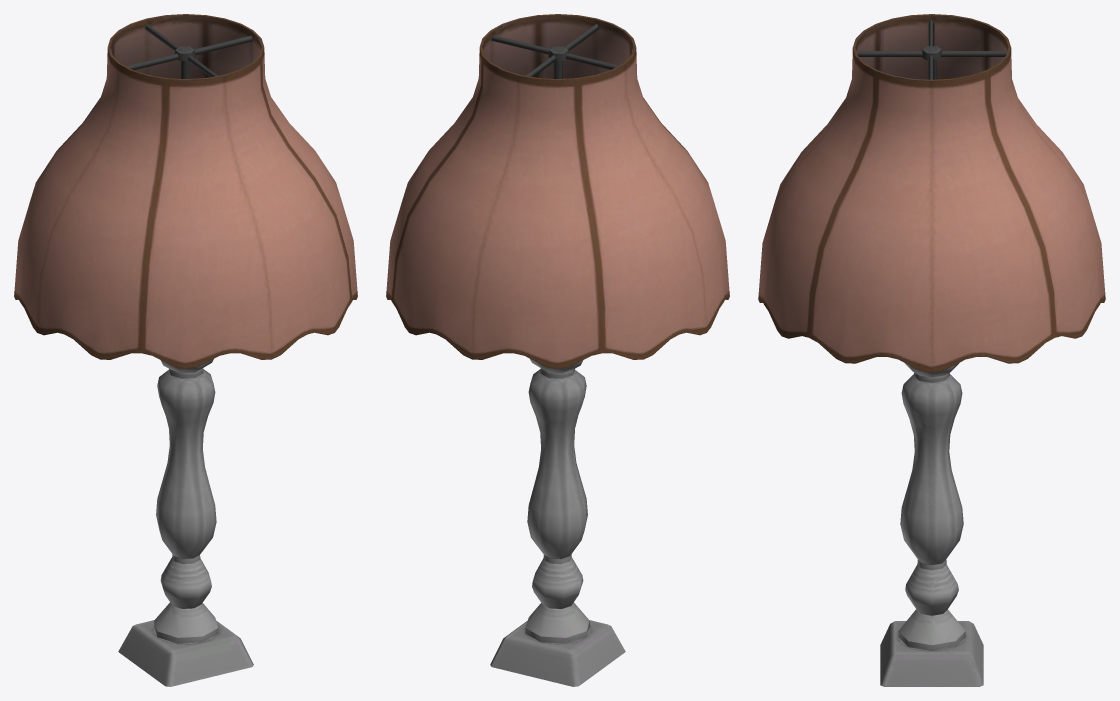
The model's file is bedlamp3.glb.
The picture shows the model from 3 angles, left to right: view 1: azimuth 30°, elevation 25°; view 2: azimuth 150°, elevation 25°; view 3: azimuth 270°, elevation 25°; orthographic projection.
Visible parts, largest first — view 1: MollyBedsideLamp; view 2: MollyBedsideLamp; view 3: MollyBedsideLamp.
Boxes of the visible parts, left/top/right/bottom form: MollyBedsideLamp: left=14, top=14, right=357, bottom=686; MollyBedsideLamp: left=386, top=14, right=729, bottom=686; MollyBedsideLamp: left=758, top=14, right=1105, bottom=686.
Size of the model in its own units: 0.379 by 0.7435 by 0.379.
1 material, 1 textured.
